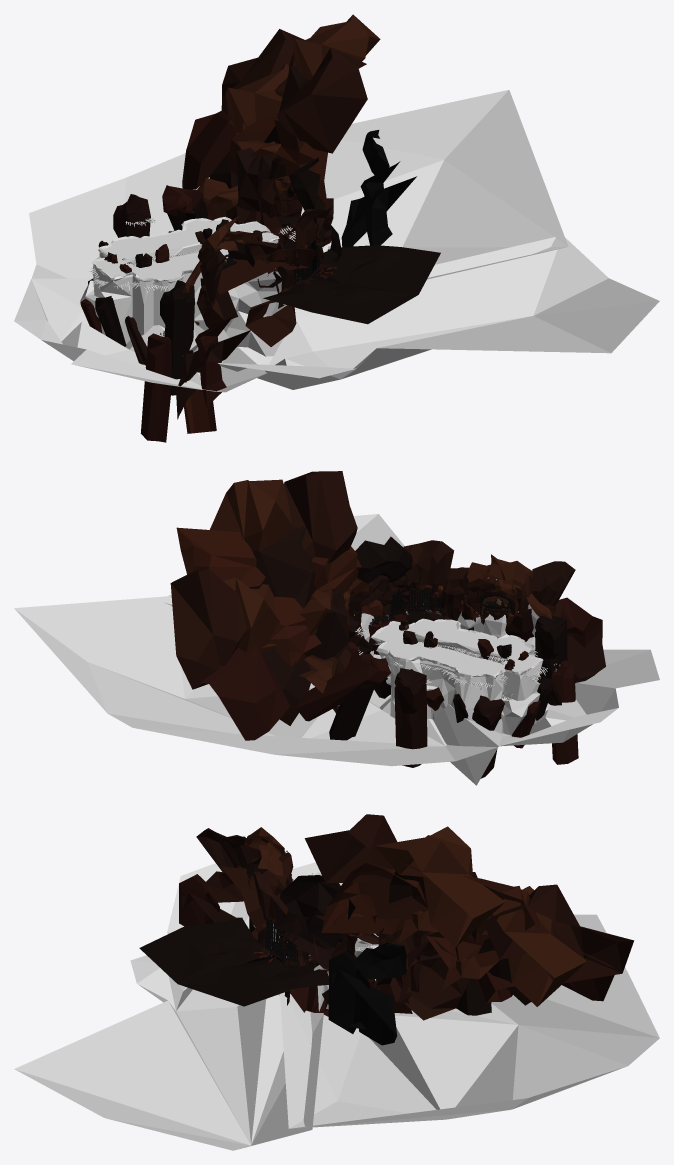
Rendered from Room_3.fbx.
3 renders of one model, top to bottom at view 1: azimuth 30°, elevation 25°; view 2: azimuth 150°, elevation 25°; view 3: azimuth 270°, elevation 25°, orthographic. The views are drawn at different scales.
Visible parts, largest first — view 1: backGround1, BigWall, Pillars, CellsGround, Rocks3, LvlGround, Walkable, JabbaWalls, Cells, jabbaRoom, Platform_Borders, Obstacles (+1 smaller); view 2: BigWall, backGround1, Pillars, LvlGround, Rocks3, Walkable, JabbaWalls, Cells, Platform_Borders, Obstacles, HoleWood, CellsGround (+1 smaller); view 3: backGround1, BigWall, Rocks3, CellsGround, JabbaWalls, Pillars, Cells.
Part boxes in pixels (bbox=[...]): backGround1: bbox=[14, 90, 659, 392]; BigWall: bbox=[182, 14, 380, 269]; Pillars: bbox=[80, 185, 216, 442]; CellsGround: bbox=[245, 245, 440, 346]; Rocks3: bbox=[176, 130, 416, 419]; LvlGround: bbox=[80, 227, 278, 343]; Walkable: bbox=[96, 219, 274, 279]; JabbaWalls: bbox=[197, 215, 285, 320]; Cells: bbox=[257, 229, 332, 293]; jabbaRoom: bbox=[217, 248, 286, 294]; Platform_Borders: bbox=[92, 216, 279, 283]; Obstacles: bbox=[104, 219, 262, 273]; BigWall: bbox=[170, 471, 454, 740]; backGround1: bbox=[14, 514, 659, 785]; Pillars: bbox=[295, 615, 578, 778]; LvlGround: bbox=[372, 632, 542, 735]; Rocks3: bbox=[526, 561, 605, 683]; Walkable: bbox=[374, 620, 540, 675]; JabbaWalls: bbox=[461, 554, 534, 641]; Cells: bbox=[376, 567, 469, 620]; Platform_Borders: bbox=[370, 618, 543, 678]; Obstacles: bbox=[399, 619, 528, 670]; HoleWood: bbox=[355, 627, 547, 700]; CellsGround: bbox=[378, 568, 455, 624]; backGround1: bbox=[14, 862, 659, 1150]; BigWall: bbox=[253, 814, 634, 1020]; Rocks3: bbox=[179, 828, 406, 1045]; CellsGround: bbox=[139, 918, 328, 1006]; JabbaWalls: bbox=[244, 827, 293, 925]; Pillars: bbox=[249, 917, 514, 1016]; Cells: bbox=[241, 885, 309, 966].
Size of the model in its own units: 177 by 87.21 by 169.
